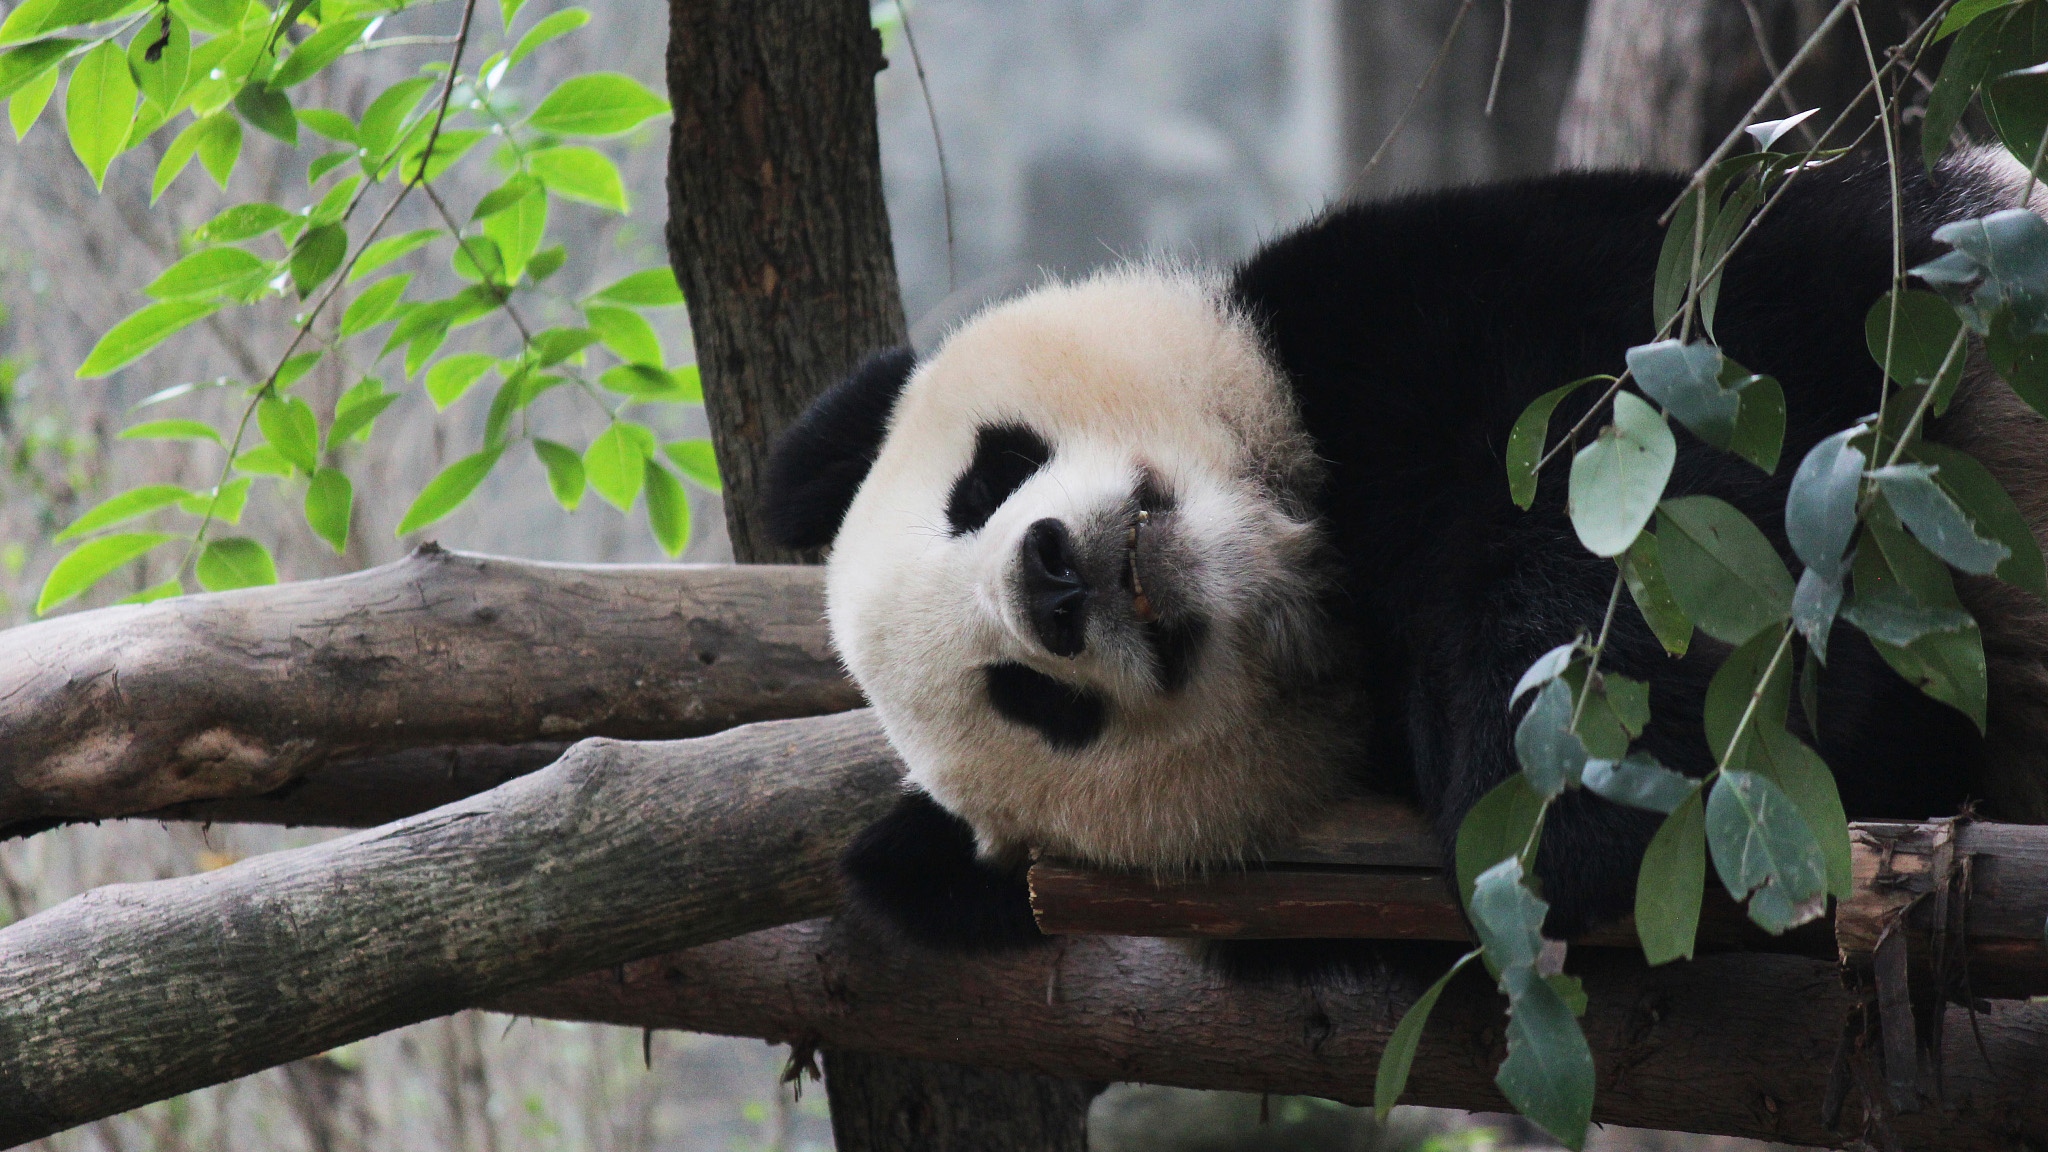panda: (729, 169, 2040, 1000)
